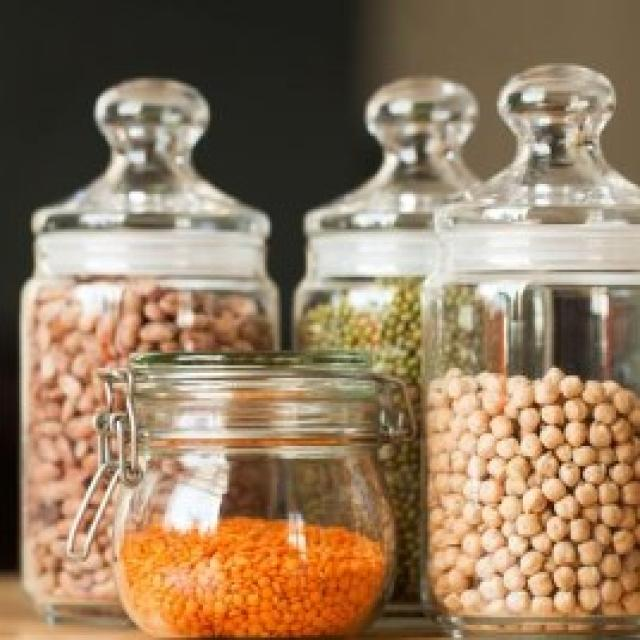electronic: (21, 72, 640, 631)
